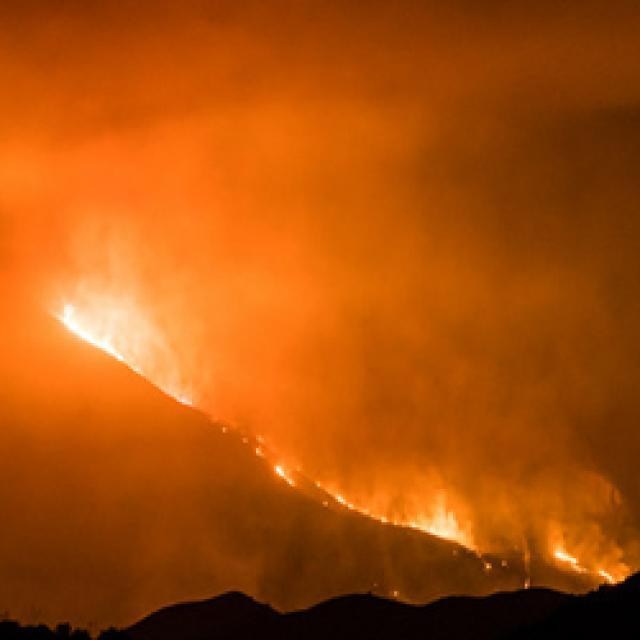Fire: (34, 239, 212, 418), (351, 468, 528, 576), (222, 409, 365, 528), (526, 476, 632, 599)
Smoke: (0, 0, 507, 312), (236, 0, 616, 376), (241, 112, 640, 461)
